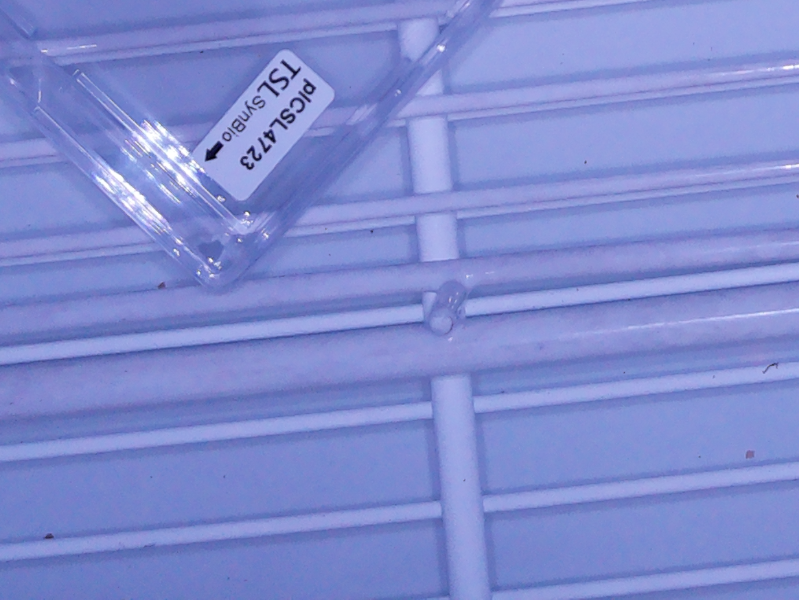plate: (1, 1, 507, 301)
